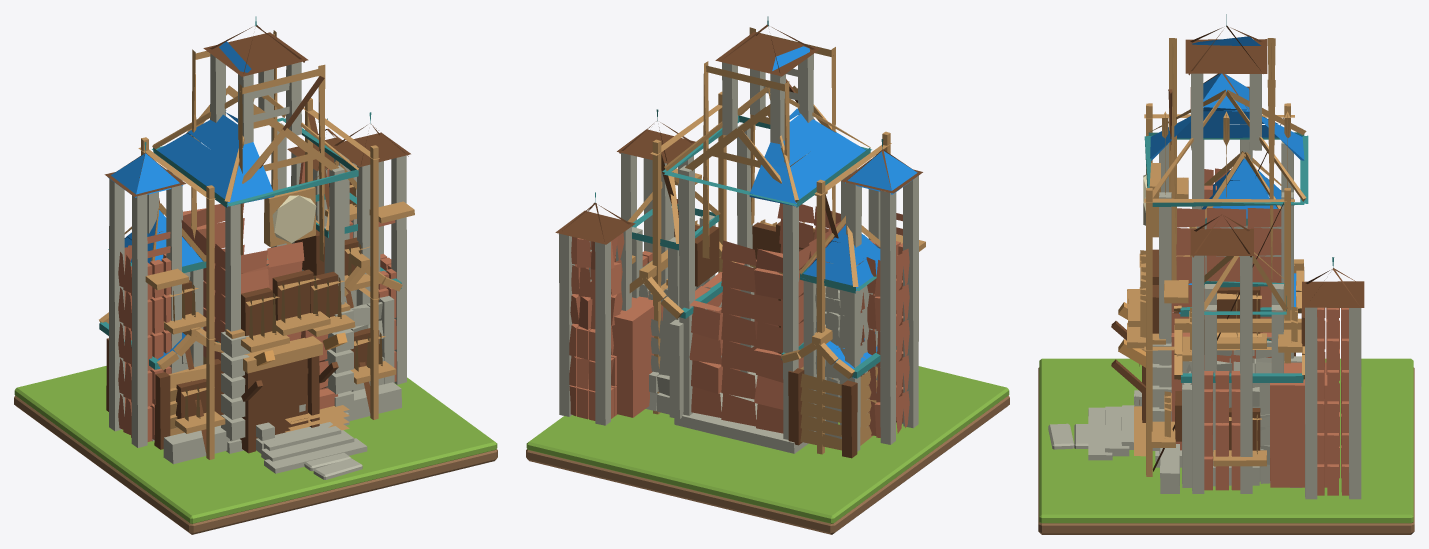
File: town_hall_l12_construction_LOD2.glb
3 renders of one model, left to right at view 1: azimuth 30°, elevation 25°; view 2: azimuth 150°, elevation 25°; view 3: azimuth 270°, elevation 25°, orthographic. The views are drawn at different scales.
Parts seen in each view (by area): view 1: town_hall_l12_construction_foundation.001, town_hall_l12_construction_grass_tile.001, town_hall_l12_construction_earth_tile.001, town_hall_l12_construction_path_stone.005; view 2: town_hall_l12_construction_foundation.001, town_hall_l12_construction_grass_tile.001, town_hall_l12_construction_earth_tile.001; view 3: town_hall_l12_construction_foundation.001, town_hall_l12_construction_grass_tile.001, town_hall_l12_construction_earth_tile.001, town_hall_l12_construction_path_stone.005.
Part boxes in pixels (x1,y1,x2,y2): town_hall_l12_construction_foundation.001: (99,16,414,473); town_hall_l12_construction_grass_tile.001: (14,366,497,523); town_hall_l12_construction_earth_tile.001: (14,395,497,534); town_hall_l12_construction_path_stone.005: (313,458,362,479); town_hall_l12_construction_foundation.001: (555,16,925,458); town_hall_l12_construction_grass_tile.001: (526,366,1009,523); town_hall_l12_construction_earth_tile.001: (526,395,1009,534); town_hall_l12_construction_foundation.001: (1088,14,1364,499); town_hall_l12_construction_grass_tile.001: (1039,358,1413,523); town_hall_l12_construction_earth_tile.001: (1038,367,1414,534); town_hall_l12_construction_path_stone.005: (1048,423,1074,449).
Size of the model in its own units: 3.6 by 4.67 by 3.6.
